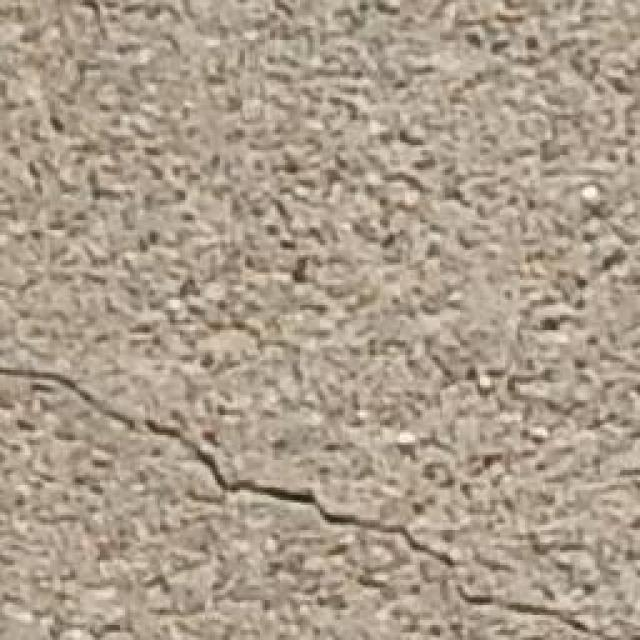concrete-crack: (0, 361, 618, 640)
